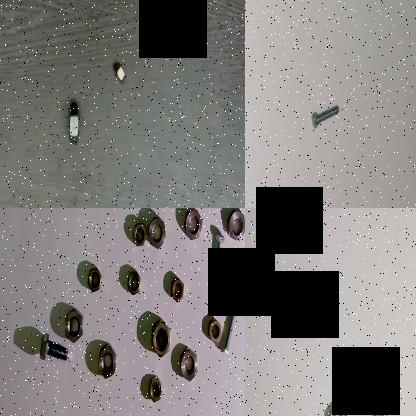Bolts: (308, 96, 340, 134), (40, 329, 69, 367), (210, 229, 226, 287), (220, 306, 238, 357)
NUTS: (152, 316, 172, 361), (66, 100, 83, 148), (64, 306, 84, 346), (99, 342, 119, 382), (148, 215, 168, 251), (180, 347, 200, 382), (228, 208, 245, 244), (111, 56, 128, 88), (186, 208, 202, 241), (171, 275, 188, 305), (130, 222, 148, 250), (148, 374, 164, 404), (86, 265, 102, 295), (127, 268, 142, 296), (324, 402, 352, 416), (208, 317, 223, 343), (371, 402, 391, 416), (239, 267, 245, 295)
